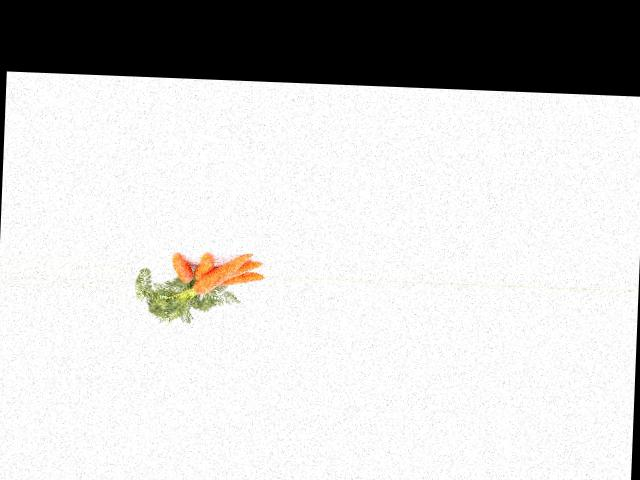carrot: (184, 248, 251, 301)
